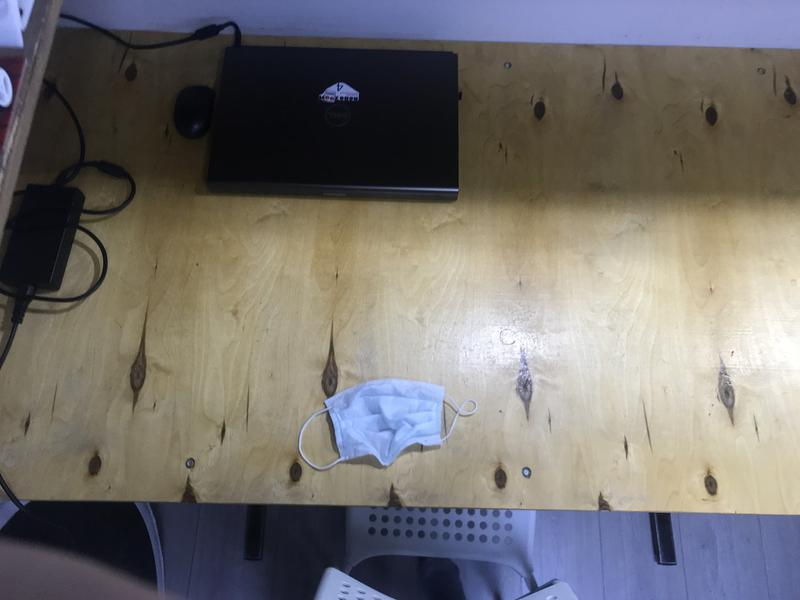medical_mask: (298, 380, 476, 469)
